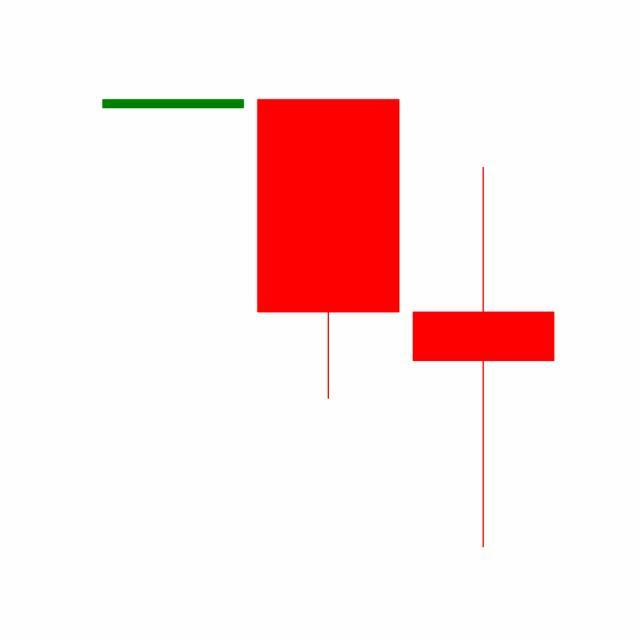Spinning Top: (406, 164, 562, 553)
